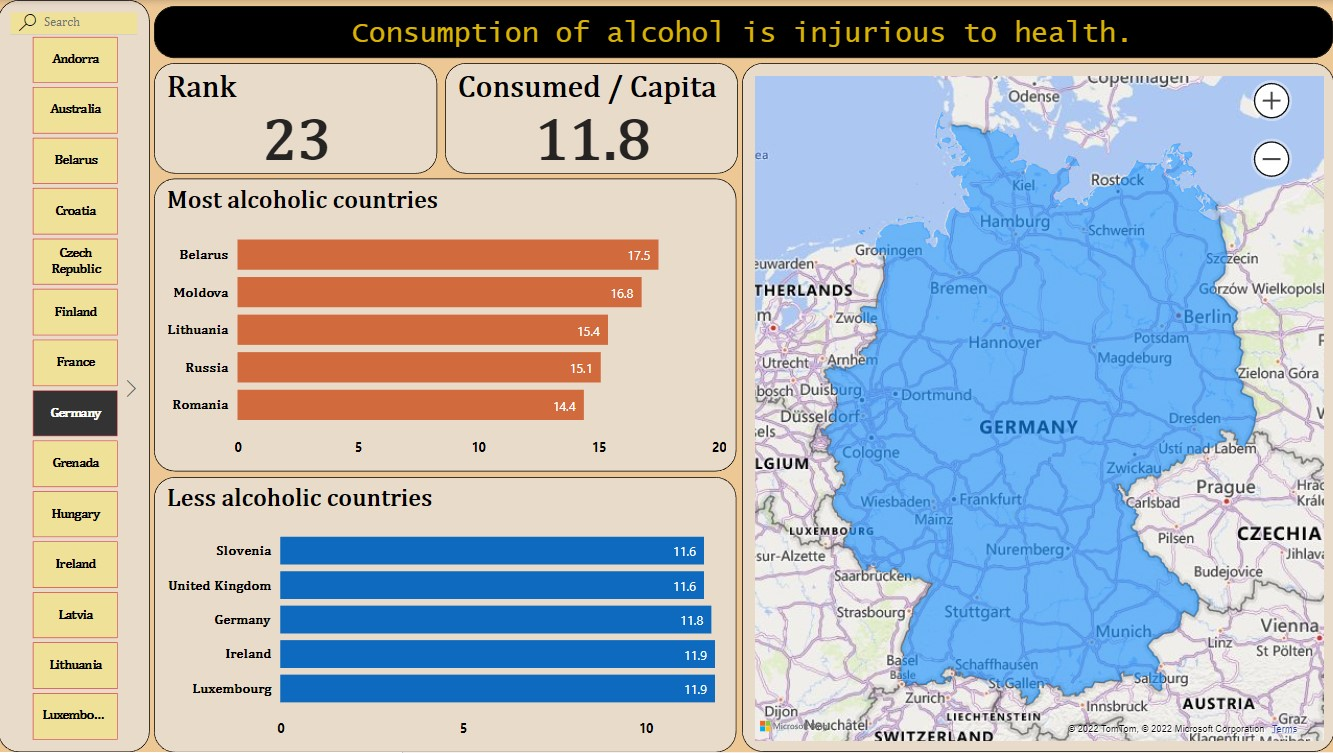

What the dashboard file says about the page in this screenshot:
{"tool":"powerbi","page":{"name":"Alcohol Consumption by countries Dashboard","canvas":[1280,720],"ordinal":0},"visuals":[{"type":"filledMap","fields":{"Category":["Alcohol Consumptions.Country"],"Series":["Alcohol Consumptions.Rank"]},"box":[712.8,60.7,567.2,659.7],"z":0},{"type":"slicer","fields":{"Values":["Alcohol Consumptions.Country"]},"box":[0,0,145.6,720.4],"z":1000},{"type":"card","title":"Rank","fields":{"Values":["Sum(Alcohol Consumptions.Rank)"]},"box":[150.1,60.7,271.5,106.2],"z":2000},{"type":"card","title":"Consumed / Capita","fields":{"Values":["Sum(Alcohol Consumptions.Liters of pure alcohol consumed per capita)"]},"box":[427.7,60.7,280.6,106.2],"z":3000},{"type":"barChart","title":"Most alcoholic countries","fields":{"Category":["Alcohol Consumptions.Country"],"Y":["Sum(Alcohol Consumptions.Liters of pure alcohol consumed per capita)"]},"box":[150.1,171.4,558.1,280.6],"z":4000},{"type":"barChart","title":"Less alcoholic countries","fields":{"Category":["Alcohol Consumptions.Country"],"Y":["Sum(Alcohol Consumptions.Liters of pure alcohol consumed per capita)"]},"box":[150.1,456.5,558.1,263.9],"z":4001},{"type":"ScrollingTextVisual1448795304508","fields":{"Category":["Alcohol Consumptions.Country"],"Measure Absolute":["Sum(Alcohol Consumptions.Rank)"]},"box":[150.1,6.1,1129.9,50],"z":4002}]}

Visuals, with their boxes in screenshot pixels (x1, y1, x2, y2), scaled from the page's 1280x720 canvas onto the 1333x753 screenshot:
filledMap - Alcohol Consumptions.Country x Alcohol Consumptions.Rank: [742, 63, 1332, 752]
slicer - Alcohol Consumptions.Country: [0, 0, 152, 752]
"Rank" card: [156, 63, 439, 175]
"Consumed / Capita" card: [445, 63, 738, 175]
"Most alcoholic countries" barChart: [156, 179, 738, 473]
"Less alcoholic countries" barChart: [156, 477, 738, 752]
ScrollingTextVisual1448795304508 - Alcohol Consumptions.Country x Sum(Alcohol Consumptions.Rank): [156, 6, 1332, 59]
